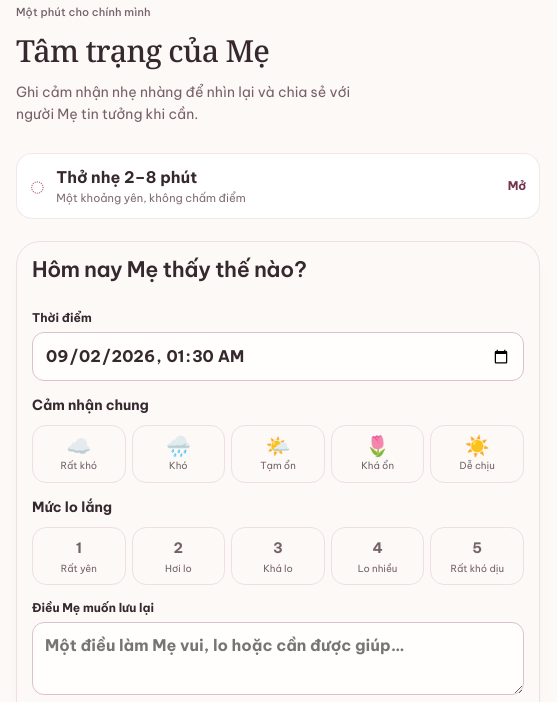
Test: pregnancy mental-health check-in › saves mood and worry without selecting symptoms
This screenshot has width=557, height=702.
Click the button "🌷 Khá ổn" at (378, 454), box x1=331 y1=425 x2=424 y2=483
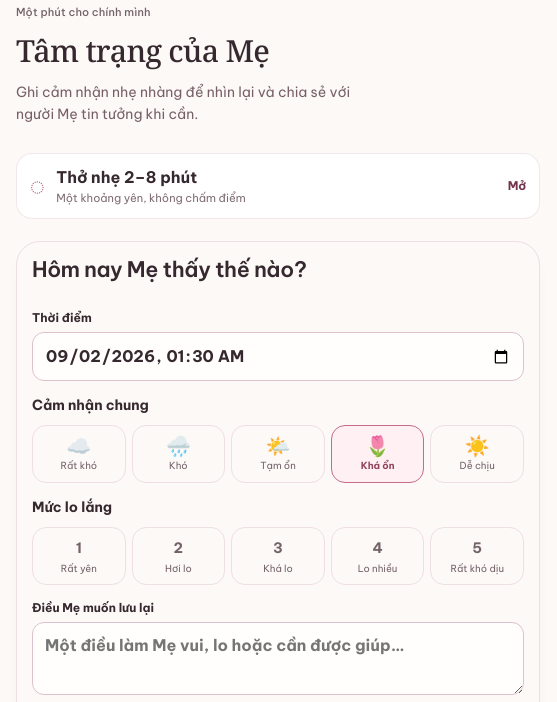
Click the button "2 Hơi lo" at (178, 556), box x1=132 y1=526 x2=225 y2=584
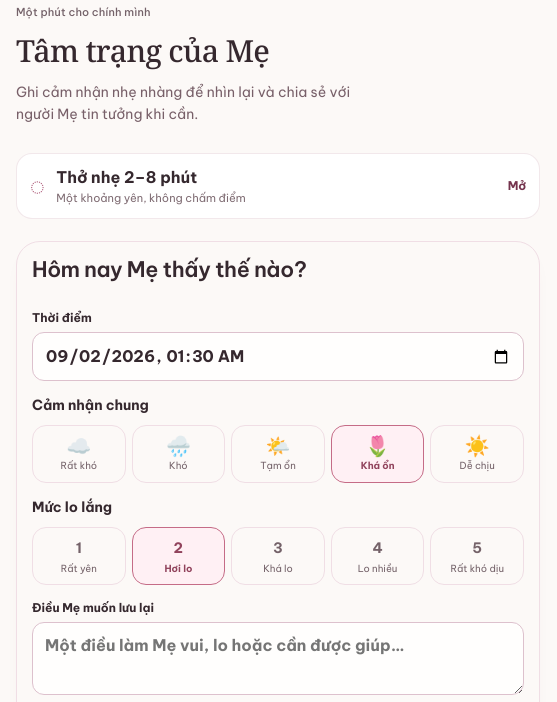
Type "Đã nói chuyện với Hiếu." into the text box labelled "Điều Mẹ muốn lưu lại" at (278, 659), box x1=32 y1=622 x2=524 y2=695
(page scrolled)
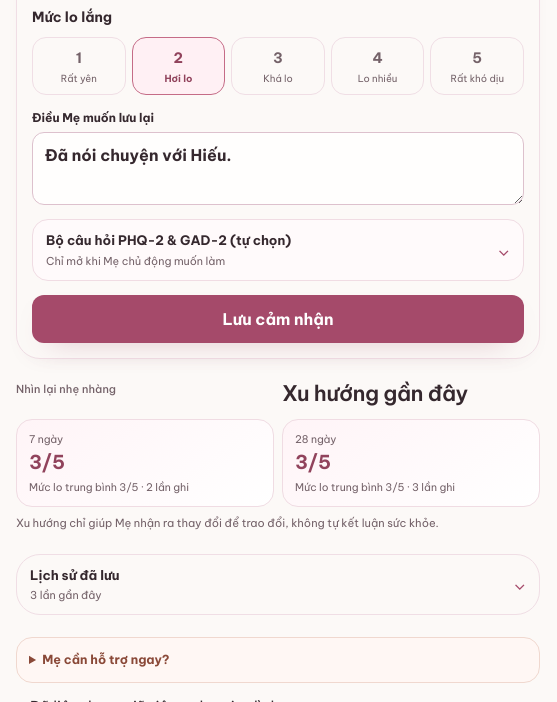
Click the button "Lưu cảm nhận" at (278, 319), box x1=32 y1=294 x2=524 y2=343
(page scrolled)
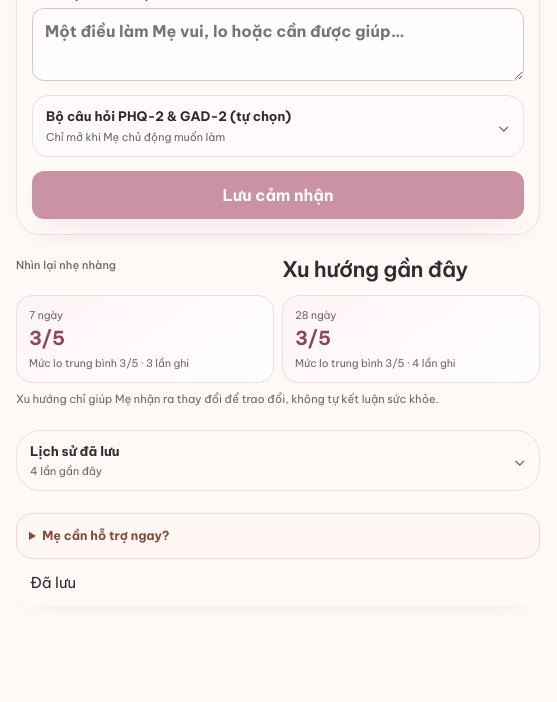
Now the message reads "Đã lưu", box x1=30 y1=573 x2=76 y2=592
